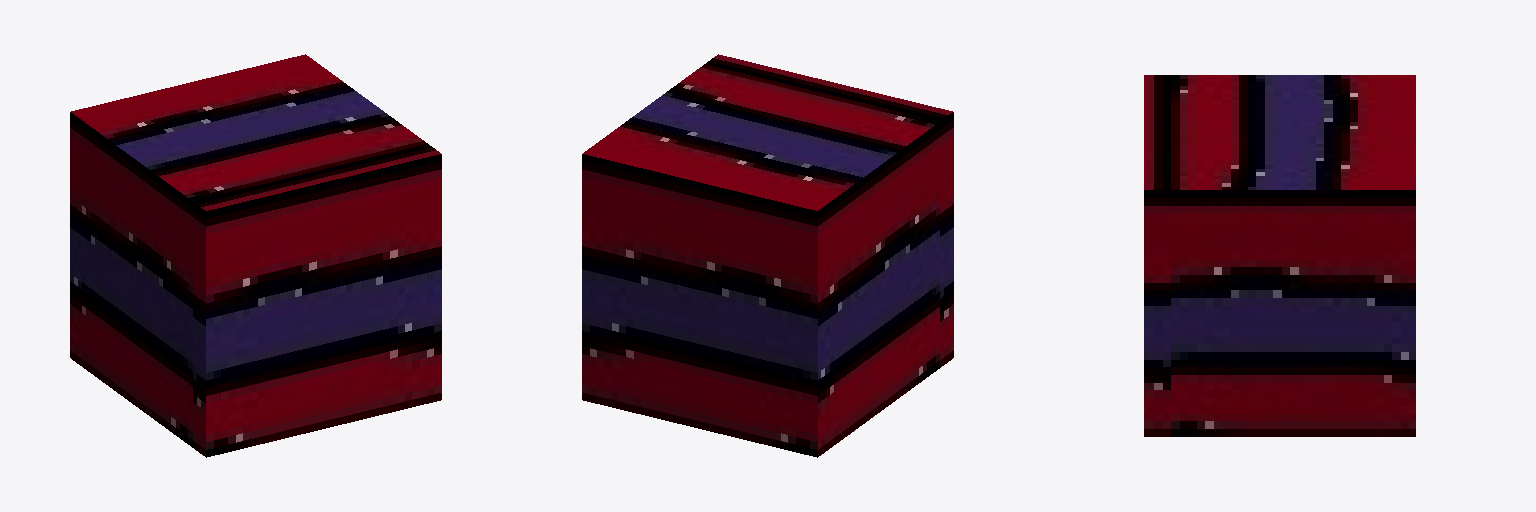
3 renders of one model, left to right at view 1: azimuth 30°, elevation 25°; view 2: azimuth 150°, elevation 25°; view 3: azimuth 270°, elevation 25°, orthographic.
Visible parts, largest first — view 1: Cube; view 2: Cube; view 3: Cube.
Boxes of the visible parts, x1=… form: Cube: x1=70, y1=54, x2=441, y2=457; Cube: x1=582, y1=54, x2=953, y2=457; Cube: x1=1144, y1=75, x2=1415, y2=436.
Bounding box in the file's own units: 2 × 2 × 2.
1 materials, 1 textured.